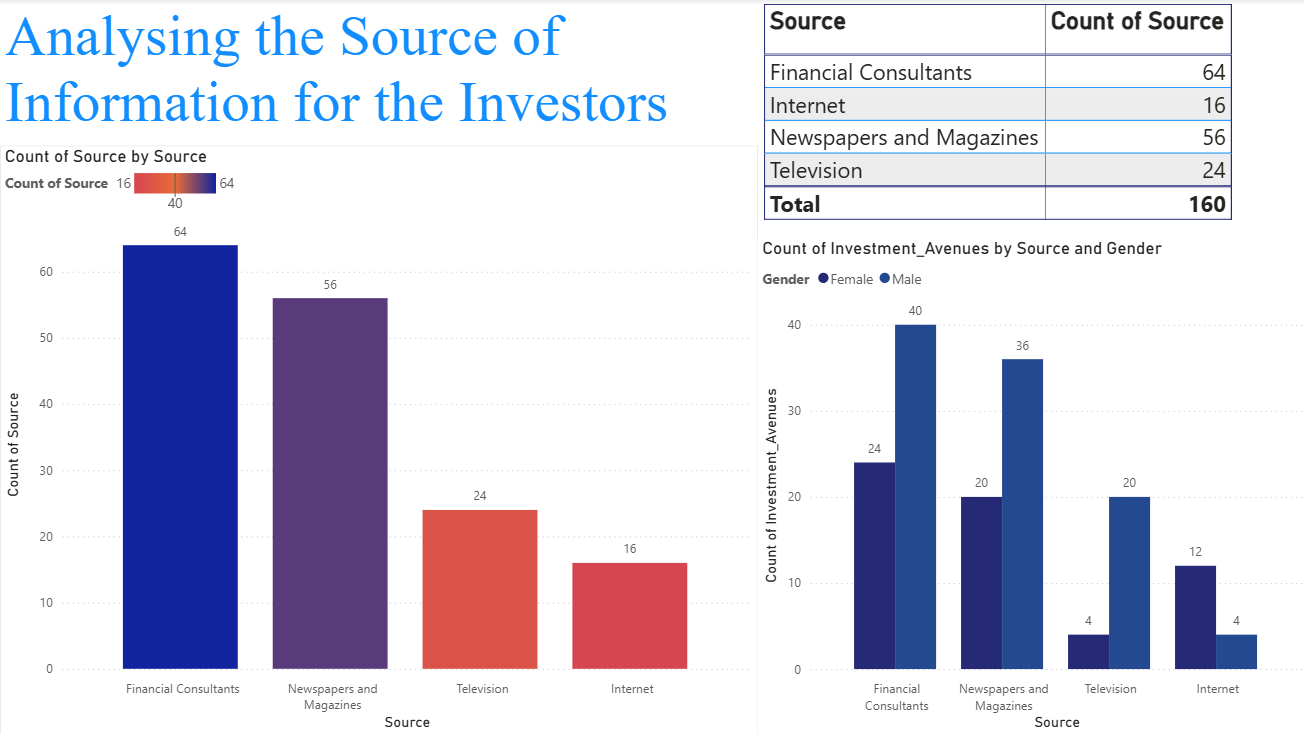

What the dashboard file says about the page in this screenshot:
{"tool":"powerbi","page":{"name":"Task 6 Visuals","canvas":[1280,720],"ordinal":5},"visuals":[{"type":"tableEx","fields":{"Values":["Data_set 2.Source","CountNonNull(Data_set 2.Source)"]},"box":[741,0,539.3,233.6],"z":0},{"type":"clusteredColumnChart","fields":{"Y":["CountNonNull(Data_set 2.Source)"],"Category":["Data_set 2.Source"]},"box":[0,143.1,741,577.2],"z":1000},{"type":"textbox","box":[0,0,741,143.1],"z":2000},{"type":"clusteredColumnChart","fields":{"Category":["Data_set 2.Source"],"Y":["CountNonNull(Data_set 2.Investment_Avenues)"],"Series":["Data_set 2.Gender"]},"box":[741,233.6,539.3,486.7],"z":3000}]}

Visuals, with their boxes in screenshot pixels (x1, y1, x2, y2), scaled from the page's 1280x720 canvas onto the 1304x734 screenshot:
tableEx - Data_set 2.Source x CountNonNull(Data_set 2.Source): [left=755, top=0, right=1303, bottom=238]
clusteredColumnChart - CountNonNull(Data_set 2.Source) x Data_set 2.Source: [left=0, top=146, right=755, bottom=733]
textbox: [left=0, top=0, right=755, bottom=146]
clusteredColumnChart - Data_set 2.Source x CountNonNull(Data_set 2.Investment_Avenues): [left=755, top=238, right=1303, bottom=733]
